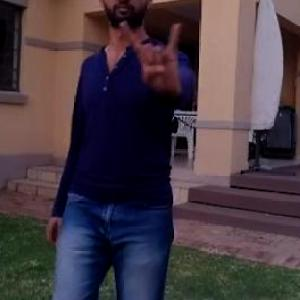takeoff-hand: (115, 15, 192, 99)
